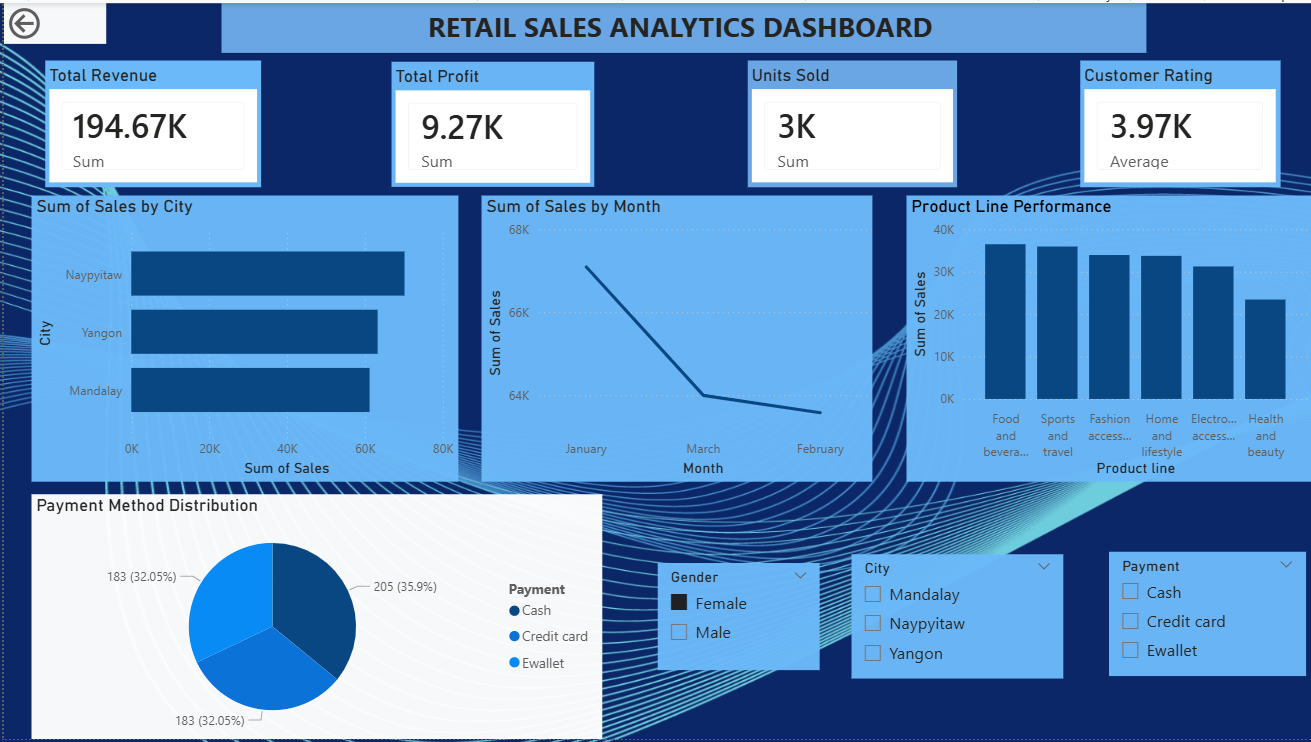

This screenshot's page, from the dashboard's own definition file:
{"tool":"powerbi","page":{"name":"Page 1","canvas":[1280,720],"ordinal":0},"visuals":[{"type":"cardVisual","title":"Total Revenue","fields":{"Data":["Sum(clean_sales.Sales)"]},"box":[40,56.2,211.2,123.8],"z":0},{"type":"actionButton","box":[0,0,100,40],"z":1000},{"type":"clusteredBarChart","fields":{"Category":["clean_sales.City"],"Y":["Sum(clean_sales.Sales)"]},"box":[27.5,188.8,417.5,280],"z":2000},{"type":"clusteredColumnChart","title":"Product Line Performance","fields":{"Category":["clean_sales.Product line"],"Y":["Sum(clean_sales.Sales)"]},"box":[882.5,188.8,397.5,280],"z":3000},{"type":"pieChart","title":"Payment Method Distribution","fields":{"Category":["clean_sales.Payment"],"Y":["CountNonNull(clean_sales.Payment)"]},"box":[27.5,480,558.8,240],"z":4000},{"type":"lineChart","fields":{"Category":["clean_sales.Month"],"Y":["Sum(clean_sales.Sales)"]},"box":[467.5,188.8,382.5,280],"z":5000},{"type":"slicer","fields":{"Values":["clean_sales.City"]},"box":[828.8,538.8,207.5,121.2],"z":6000},{"type":"slicer","fields":{"Values":["clean_sales.Gender"]},"box":[640,547.5,158.8,105],"z":7000},{"type":"slicer","fields":{"Values":["clean_sales.Payment"]},"box":[1081.2,536.2,192.5,121.2],"z":8000},{"type":"cardVisual","title":"Total Profit","fields":{"Data":["Sum(clean_sales.gross income)"]},"box":[378.8,57.5,198.8,122.5],"z":9000},{"type":"cardVisual","title":"Customer Rating","fields":{"Data":["Sum(clean_sales.Rating)"]},"box":[1052.5,56.2,196.2,123.8],"z":10000},{"type":"cardVisual","title":"Units Sold","fields":{"Data":["Sum(clean_sales.Quantity)"]},"box":[727.5,56.2,205,123.8],"z":11000},{"type":"textbox","box":[212.5,0,905,48.8],"z":12000}]}

Visuals, with their boxes in screenshot pixels (x1, y1, x2, y2), scaled from the page's 1280x720 canvas onto the 1311x742 screenshot:
"Total Revenue" cardVisual: {"left": 41, "top": 58, "right": 257, "bottom": 185}
actionButton: {"left": 0, "top": 0, "right": 102, "bottom": 41}
clusteredBarChart - clean_sales.City x Sum(clean_sales.Sales): {"left": 28, "top": 195, "right": 456, "bottom": 483}
"Product Line Performance" clusteredColumnChart: {"left": 904, "top": 195, "right": 1310, "bottom": 483}
"Payment Method Distribution" pieChart: {"left": 28, "top": 495, "right": 600, "bottom": 741}
lineChart - clean_sales.Month x Sum(clean_sales.Sales): {"left": 479, "top": 195, "right": 871, "bottom": 483}
slicer - clean_sales.City: {"left": 849, "top": 555, "right": 1061, "bottom": 680}
slicer - clean_sales.Gender: {"left": 656, "top": 564, "right": 818, "bottom": 672}
slicer - clean_sales.Payment: {"left": 1107, "top": 553, "right": 1305, "bottom": 677}
"Total Profit" cardVisual: {"left": 388, "top": 59, "right": 592, "bottom": 185}
"Customer Rating" cardVisual: {"left": 1078, "top": 58, "right": 1279, "bottom": 185}
"Units Sold" cardVisual: {"left": 745, "top": 58, "right": 955, "bottom": 185}
textbox: {"left": 218, "top": 0, "right": 1145, "bottom": 50}
